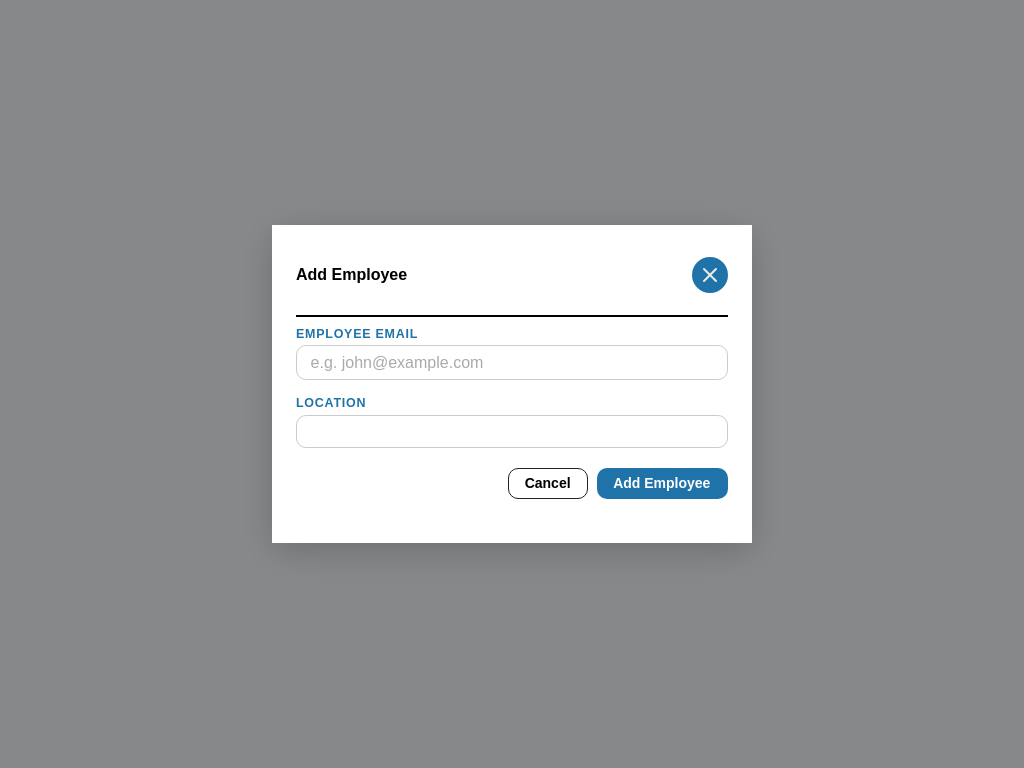
Test case: AddEmployeeModal › submission › shows fallback error message when a non-Error is thrown
The width and height of the screenshot is (1024, 768).
Type "john@example.com" into the field labelled "Employee Email".
click(512, 362); type("john@example.com")  # box [296,345,728,380]
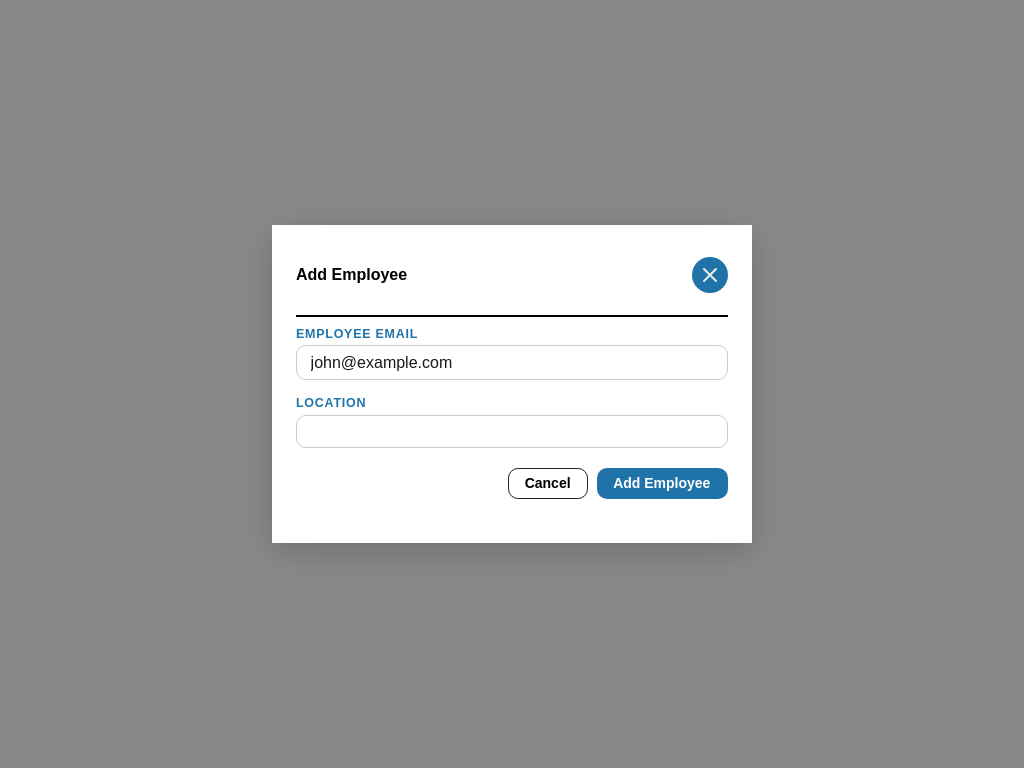
Click the button "Add Employee".
click(663, 483)  # box [597,468,728,499]
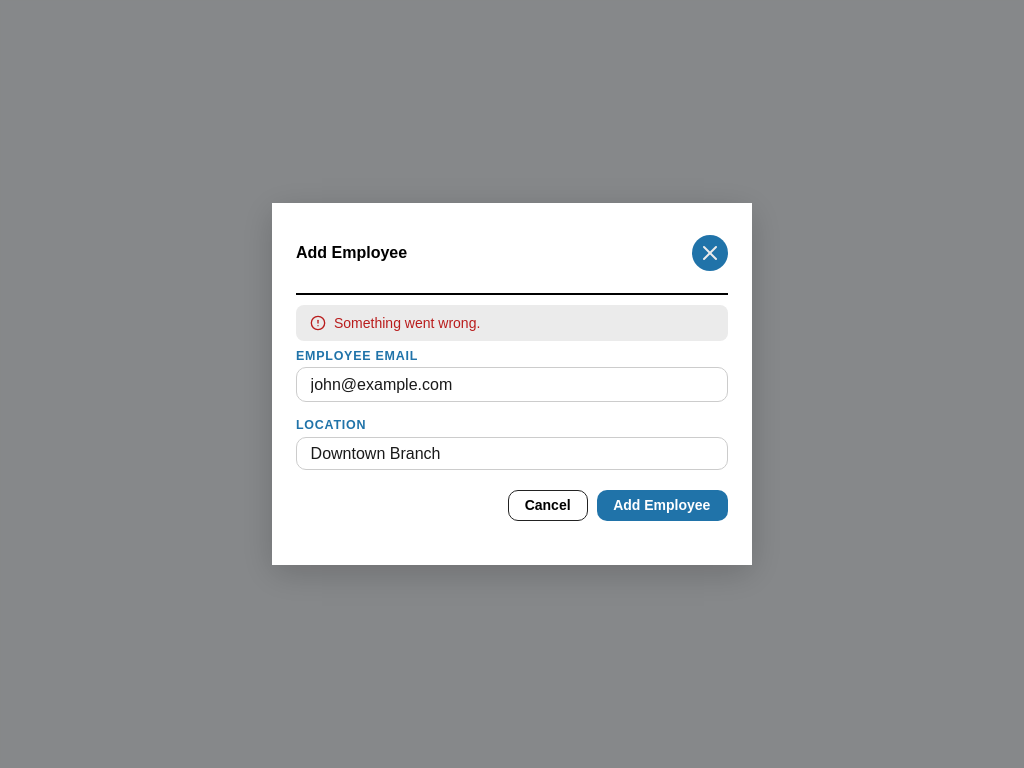
Expected: the text "Something went wrong." is shown, [334,314,480,330]
